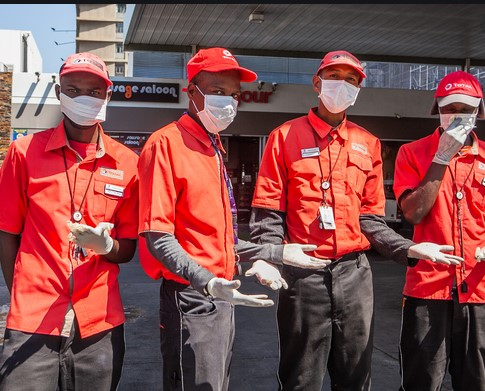face_with_mask: (185, 47, 248, 135), (57, 51, 111, 129), (434, 70, 482, 143), (315, 50, 364, 117)
